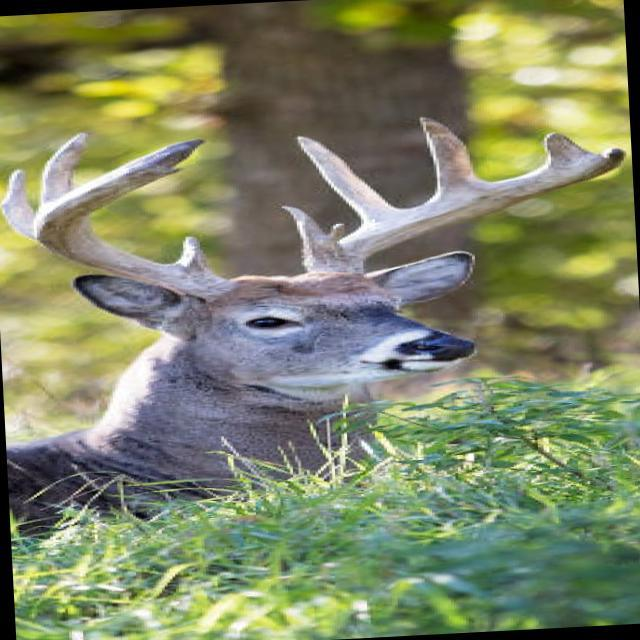E1: (327, 223, 346, 242)
L-G1: (279, 205, 343, 260)
L-G2: (297, 135, 402, 224)
L-G3: (419, 116, 489, 196)
L-G4: (543, 132, 600, 165)
R-F: (33, 138, 238, 303)
R-G1: (168, 236, 207, 269)
